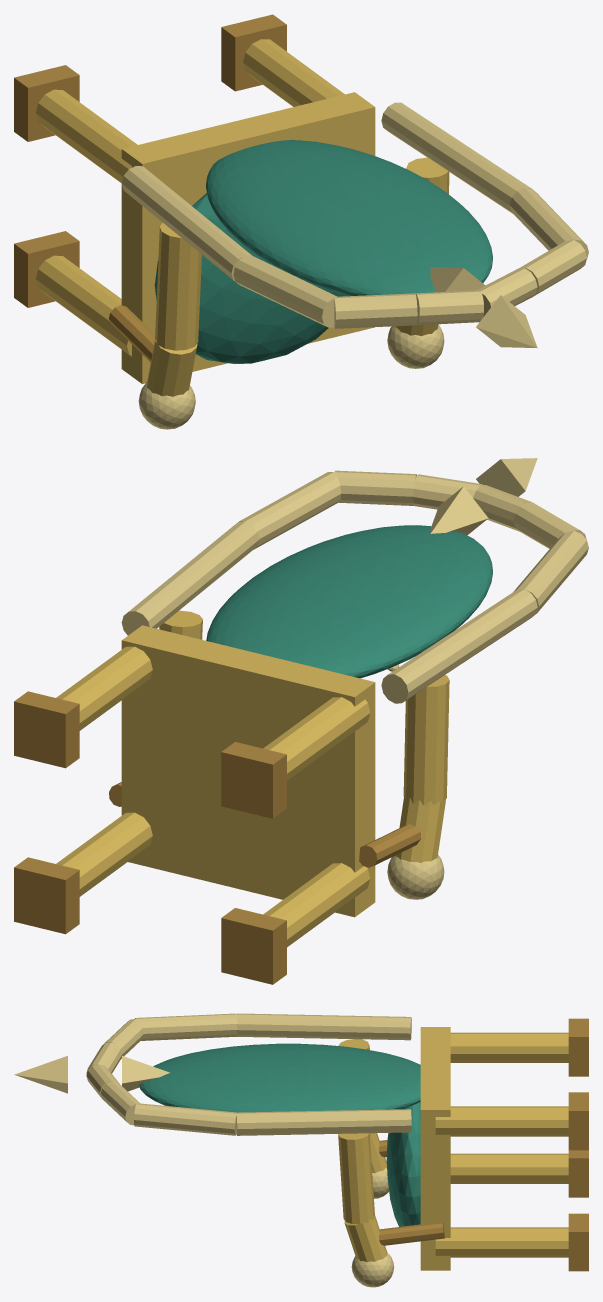
File: chair_royal_emerald.glb
3 views of the same model, one above another, from view 1: azimuth 30°, elevation 25°; view 2: azimuth 150°, elevation 25°; view 3: azimuth 270°, elevation 25° (orthographic). The views are drawn at different scales.
Visible parts, largest first — view 1: world; view 2: world; view 3: world.
Boxes of the visible parts, bbox=[...] form: world: bbox=[14, 14, 588, 429]; world: bbox=[14, 458, 588, 984]; world: bbox=[14, 1013, 588, 1287].
Size of the model in its own units: 0.9459 by 0.752 by 2.11.
